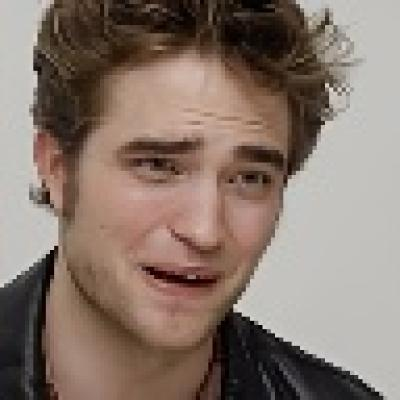sad: (62, 29, 289, 344)
